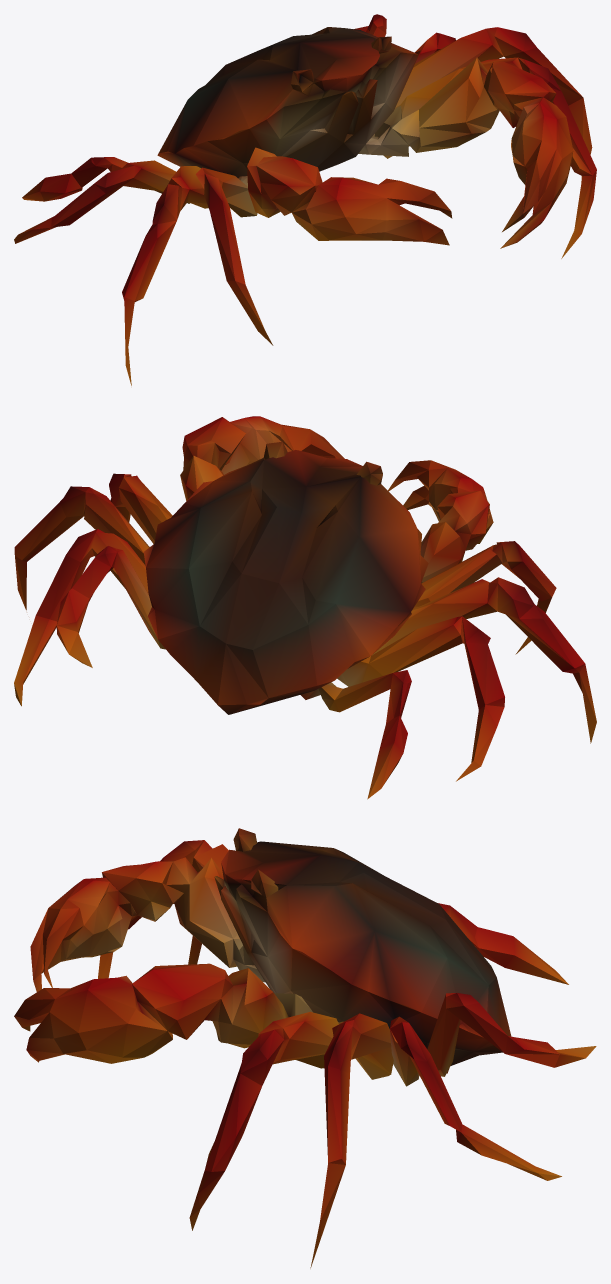
File: edible-crab.gltf
3 views of the same model, one above another, from view 1: azimuth 30°, elevation 25°; view 2: azimuth 150°, elevation 25°; view 3: azimuth 270°, elevation 25° (orthographic). The views are drawn at different scales.
Parts seen in each view (by area): view 1: Model; view 2: Model; view 3: Model.
Boxes of the visible parts, x1,y1,x2,y2 form: Model: (14,14,596,385); Model: (14,416,596,799); Model: (14,828,596,1268).
Size of the model in its own units: 2.12 by 1 by 1.76.
